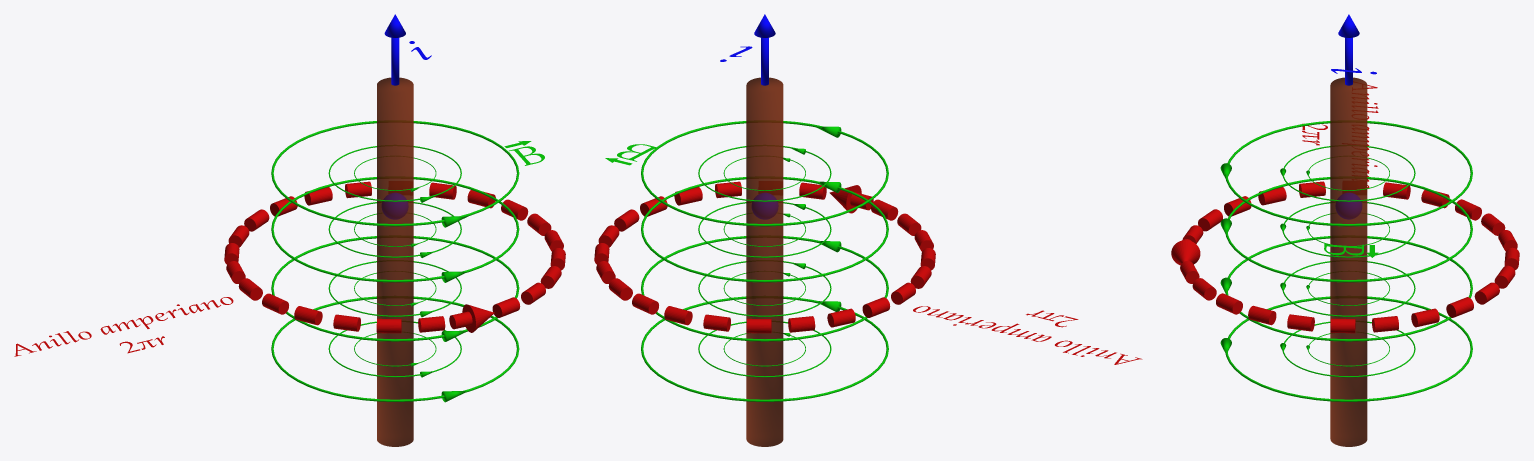
The model's file is carga.obj.
3 views of the same model, side by side, from view 1: azimuth 30°, elevation 25°; view 2: azimuth 150°, elevation 25°; view 3: azimuth 270°, elevation 25° (orthographic).
Parts seen in each view (by area): view 1: Alambre-recto_Text.002; view 2: Alambre-recto_Text.002; view 3: Alambre-recto_Text.002, Alambre-recto.001_Text.001.
Boxes of the visible parts, box(x1,y1,x2,y2) form: Alambre-recto_Text.002: box(14, 14, 565, 446); Alambre-recto_Text.002: box(594, 14, 1142, 446); Alambre-recto_Text.002: box(1171, 14, 1519, 446); Alambre-recto.001_Text.001: box(1335, 193, 1361, 219).
Size of the model in its own units: 14.92 by 11.49 by 8.54.
